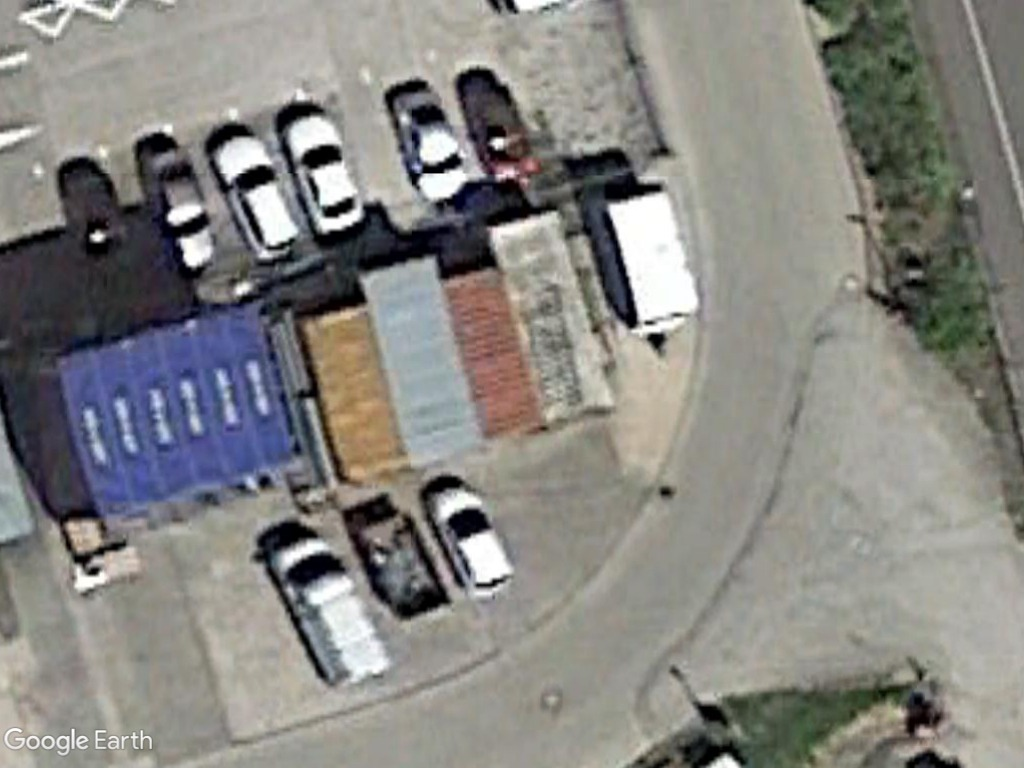car: (209, 131, 302, 263), (280, 108, 368, 239), (422, 477, 517, 598), (390, 85, 469, 208)
van: (266, 532, 389, 691)
